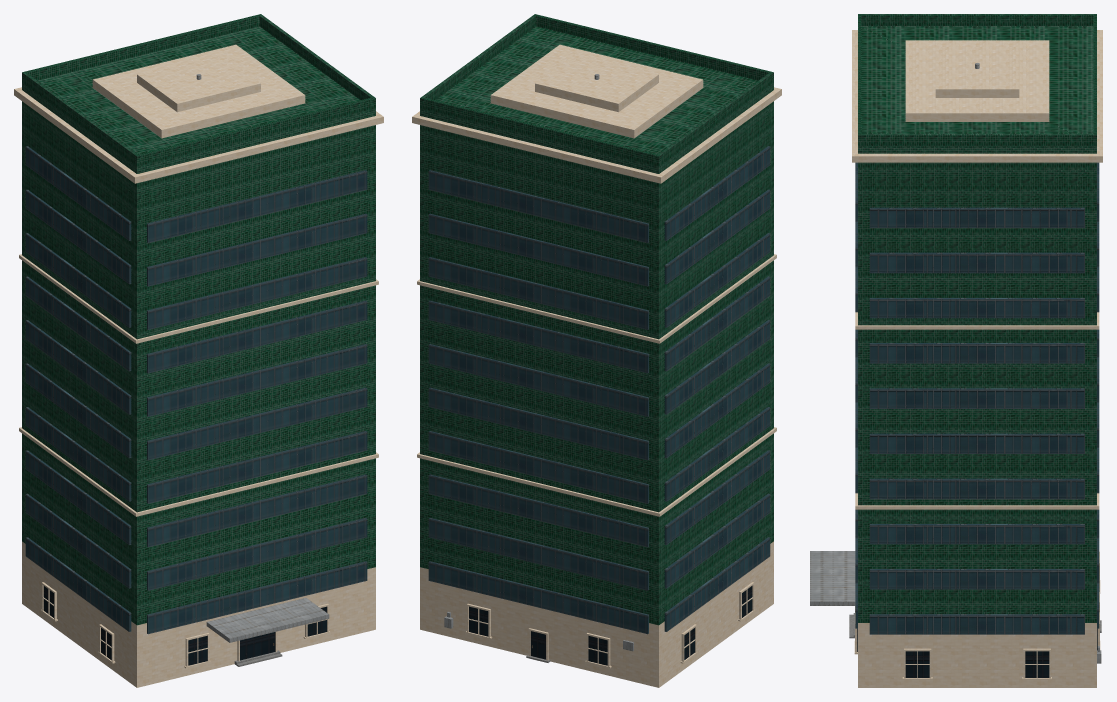
The model's file is witherell-court-tower_lod0.gltf.
The picture shows the model from 3 angles, left to right: view 1: azimuth 30°, elevation 25°; view 2: azimuth 150°, elevation 25°; view 3: azimuth 270°, elevation 25°; orthographic projection. The views are drawn at different scales.
Parts seen in each view (by area): view 1: witherell-court-tower_upper, witherell-court-tower_fen_07-glass-curtain-blue_0, witherell-court-tower_base, witherell-court-tower__crown_step_1, witherell-court-tower__crown_step_2, witherell-court-tower__cornice, witherell-court-tower__parapet_front, witherell-court-tower__parapet_back, witherell-court-tower__canopy, witherell-court-tower_fen_07-glass-curtain-blue_2_t, witherell-court-tower__string_course_2, witherell-court-tower__string_course_1 (+3 smaller); view 2: witherell-court-tower_upper, witherell-court-tower_fen_07-glass-curtain-blue_0, witherell-court-tower_base, witherell-court-tower__crown_step_1, witherell-court-tower__crown_step_2, witherell-court-tower__cornice, witherell-court-tower__parapet_back, witherell-court-tower__parapet_front, witherell-court-tower_fen_07-glass-curtain-blue_2_t, witherell-court-tower__string_course_2, witherell-court-tower__string_course_1, witherell-court-tower_fen_04-limestone_1 (+2 smaller); view 3: witherell-court-tower_upper, witherell-court-tower_fen_07-glass-curtain-blue_0, witherell-court-tower_base, witherell-court-tower__crown_step_1, witherell-court-tower__crown_step_2, witherell-court-tower__cornice, witherell-court-tower__parapet_left, witherell-court-tower__parapet_right, witherell-court-tower__canopy, witherell-court-tower_fen_07-glass-curtain-blue_2_t, witherell-court-tower__string_course_2, witherell-court-tower__string_course_1 (+3 smaller).
Part boxes in pixels (x1,y1,x2,y2): witherell-court-tower_upper: (22,26,375,625); witherell-court-tower_fen_07-glass-curtain-blue_0: (25,146,367,634); witherell-court-tower_base: (22,541,375,687); witherell-court-tower__crown_step_1: (92,44,305,138); witherell-court-tower__crown_step_2: (137,54,260,112); witherell-court-tower__cornice: (14,87,383,183); witherell-court-tower__parapet_front: (135,97,375,166); witherell-court-tower__parapet_back: (22,14,262,83); witherell-court-tower__canopy: (206,598,329,642); witherell-court-tower_fen_07-glass-curtain-blue_2_t: (43,586,326,665); witherell-court-tower__string_course_2: (19,254,378,343); witherell-court-tower__string_course_1: (19,427,378,516); witherell-court-tower_upper: (420,26,773,625); witherell-court-tower_fen_07-glass-curtain-blue_0: (428,146,770,634); witherell-court-tower_base: (420,541,773,687); witherell-court-tower__crown_step_1: (490,44,703,138); witherell-court-tower__crown_step_2: (535,54,658,112); witherell-court-tower__cornice: (412,87,781,183); witherell-court-tower__parapet_back: (420,97,660,166); witherell-court-tower__parapet_front: (533,14,773,83); witherell-court-tower_fen_07-glass-curtain-blue_2_t: (469,586,752,665); witherell-court-tower__string_course_2: (417,254,776,343); witherell-court-tower__string_course_1: (417,427,776,516); witherell-court-tower_fen_04-limestone_1: (465,582,755,668); witherell-court-tower_upper: (858,26,1096,622); witherell-court-tower_fen_07-glass-curtain-blue_0: (855,162,1099,634); witherell-court-tower_base: (858,623,1096,687); witherell-court-tower__crown_step_1: (905,40,1049,121); witherell-court-tower__crown_step_2: (935,47,1019,97); witherell-court-tower__cornice: (852,30,1102,162); witherell-court-tower__parapet_left: (861,14,1093,26); witherell-court-tower__parapet_right: (861,133,1093,145); witherell-court-tower__canopy: (810,551,855,605); witherell-court-tower_fen_07-glass-curtain-blue_2_t: (857,628,1097,677); witherell-court-tower__string_course_2: (855,312,1099,329); witherell-court-tower__string_course_1: (855,493,1099,509).
Bounding box in the file's own units: 25 × 52 × 24.5.
